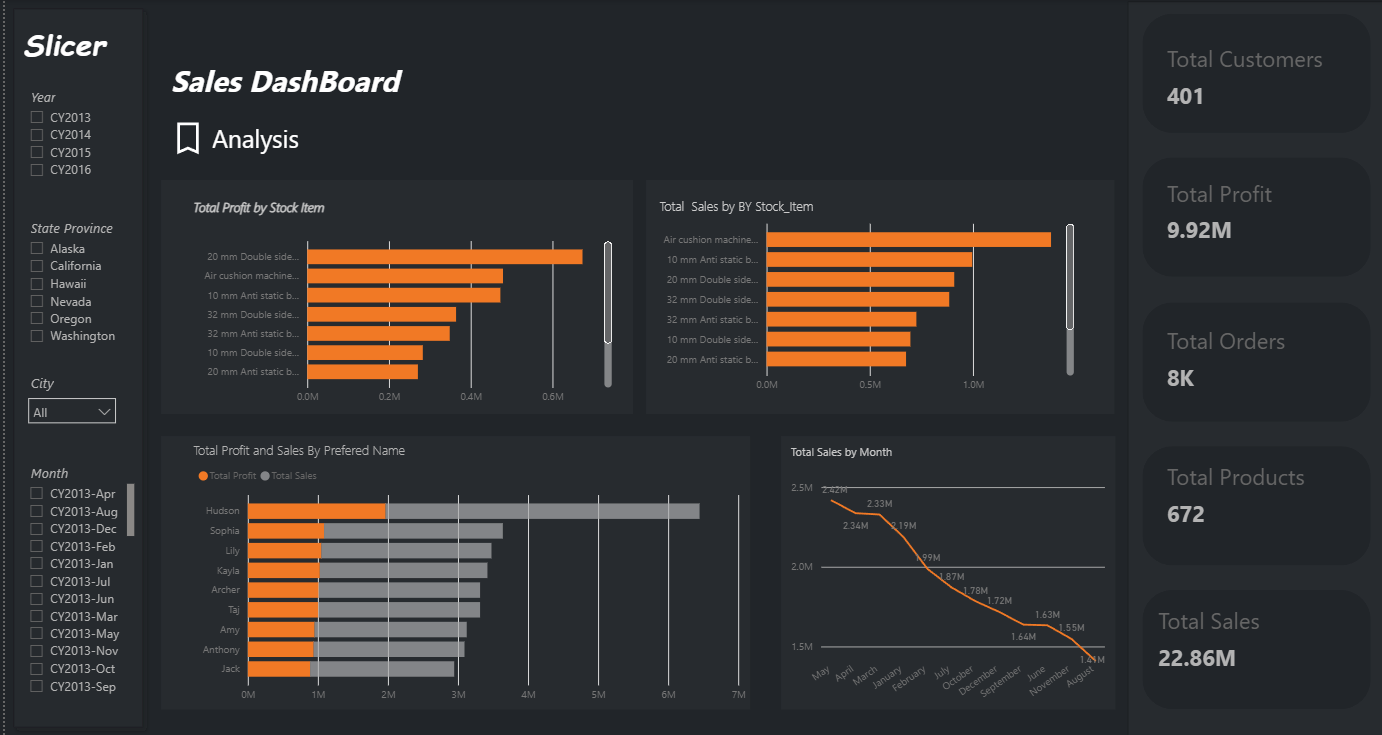

The dashboard page shown, as its layout file describes it:
{"tool":"powerbi","page":{"name":"Analysis DashBoard","canvas":[1500,800],"ordinal":3},"visuals":[{"type":"shape","box":[1219.6,1.4,280.7,798.5],"z":0},{"type":"shape","box":[0,0,159.4,799.9],"z":1000},{"type":"shape","box":[1235.9,15,248,129.5],"z":2000},{"type":"shape","box":[170.3,474.2,640,297.1],"z":3000},{"type":"shape","box":[842.6,474.4,362.9,297.1],"z":4000},{"type":"shape","box":[170.3,196.2,512.9,254.3],"z":5000},{"type":"shape","box":[697.7,196.2,508.6,254.3],"z":6000},{"type":"textbox","box":[67.1,61.4,475.7,67.1],"z":7000},{"type":"bookmarkNavigator","box":[0,0,600,50],"z":8000},{"type":"shape","box":[1235.9,171.7,248,129.5],"z":10000},{"type":"shape","box":[1235.9,328.4,248,129.5],"z":11000},{"type":"shape","box":[1235.9,485.1,248,129.5],"z":12000},{"type":"shape","box":[1235.9,641.8,248,129.5],"z":13000},{"type":"slicer","fields":{"Values":["Date_Table.Calendar Year Label"]},"box":[15,89.9,130.8,141.7],"z":19000},{"type":"textbox","box":[15,20.4,509,150],"z":20000},{"type":"slicer","fields":{"Values":["City_Table.State Province"]},"box":[15,233,130.8,160.8],"z":21000},{"type":"slicer","fields":{"Values":["City_Table.City"]},"box":[15,400.6,115.8,99.5],"z":22000},{"type":"slicer","fields":{"Values":["Date_Table.Calendar Month Label"]},"box":[15,498.7,130.8,261.6],"z":23000},{"type":"lineChart","fields":{"Category":["Date_Table.Month"],"Y":["Sales_Table.Total Orders"]},"box":[188.9,212.2,473.3,237.8],"z":24000},{"type":"clusteredBarChart","title":"Top 10 Cities in Profit ","fields":{"Category":["City_Table.City"],"Y":["Sum(Sales_Table.Profit)"]},"box":[705.7,207.1,500,248.6],"z":25000},{"type":"columnChart","fields":{"Category":["City_Table.State Province"],"Y":["Sum(Sales_Table.Profit)"]},"box":[188.1,485.6,611.1,260.5],"z":26000},{"type":"columnChart","fields":{"Category":["City_Table.State Province"],"Y":["Sales_Table.Total Sales"]},"box":[842.6,485.6,363.4,275],"z":26001},{"type":"cardVisual","fields":{"Data":["Sales_Table.Profit Margin"]},"box":[1239.8,0,255.2,149.6],"z":26002},{"type":"cardVisual","fields":{"Data":["Sales_Table.Total Tax"]},"box":[1246.3,170.5,228.3,123.8],"z":26003},{"type":"cardVisual","fields":{"Data":["Sales_Table.Average Order Value"]},"box":[1238.2,302.3,262.1,163.3],"z":26004},{"type":"cardVisual","fields":{"Data":["Sales_Table.Profit per Item"]},"box":[1236.6,472.8,237.4,149.6],"z":26005},{"type":"cardVisual","fields":{"Data":["Sales_Table.Average Quantity"]},"box":[1231,623.6,269,159],"z":26006},{"type":"actionButton","title":"Back to Overview","box":[179.3,115.5,240.5,67.9],"z":26007}]}

Visuals, with their boxes in screenshot pixels (x1, y1, x2, y2), scaled from the page's 1500x800 canvas onto the 1382x735 screenshot:
shape: (1124,1,1381,734)
shape: (0,0,147,734)
shape: (1139,14,1367,133)
shape: (157,436,747,709)
shape: (776,436,1111,709)
shape: (157,180,629,414)
shape: (643,180,1111,414)
textbox: (62,56,500,118)
bookmarkNavigator: (0,0,553,46)
shape: (1139,158,1367,277)
shape: (1139,302,1367,421)
shape: (1139,446,1367,565)
shape: (1139,590,1367,709)
slicer - Date_Table.Calendar Year Label: (14,83,134,213)
textbox: (14,19,483,157)
slicer - City_Table.State Province: (14,214,134,362)
slicer - City_Table.City: (14,368,121,459)
slicer - Date_Table.Calendar Month Label: (14,458,134,699)
lineChart - Date_Table.Month x Sales_Table.Total Orders: (174,195,610,413)
"Top 10 Cities in Profit " clusteredBarChart: (650,190,1111,419)
columnChart - City_Table.State Province x Sum(Sales_Table.Profit): (173,446,736,685)
columnChart - City_Table.State Province x Sales_Table.Total Sales: (776,446,1111,699)
cardVisual - Sales_Table.Profit Margin: (1142,0,1377,137)
cardVisual - Sales_Table.Total Tax: (1148,157,1359,270)
cardVisual - Sales_Table.Average Order Value: (1141,278,1381,428)
cardVisual - Sales_Table.Profit per Item: (1139,434,1358,572)
cardVisual - Sales_Table.Average Quantity: (1134,573,1381,719)
"Back to Overview" actionButton: (165,106,387,168)
